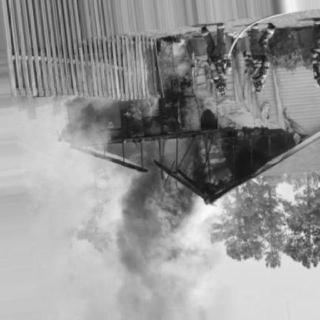Fire: (138, 163, 200, 253)
